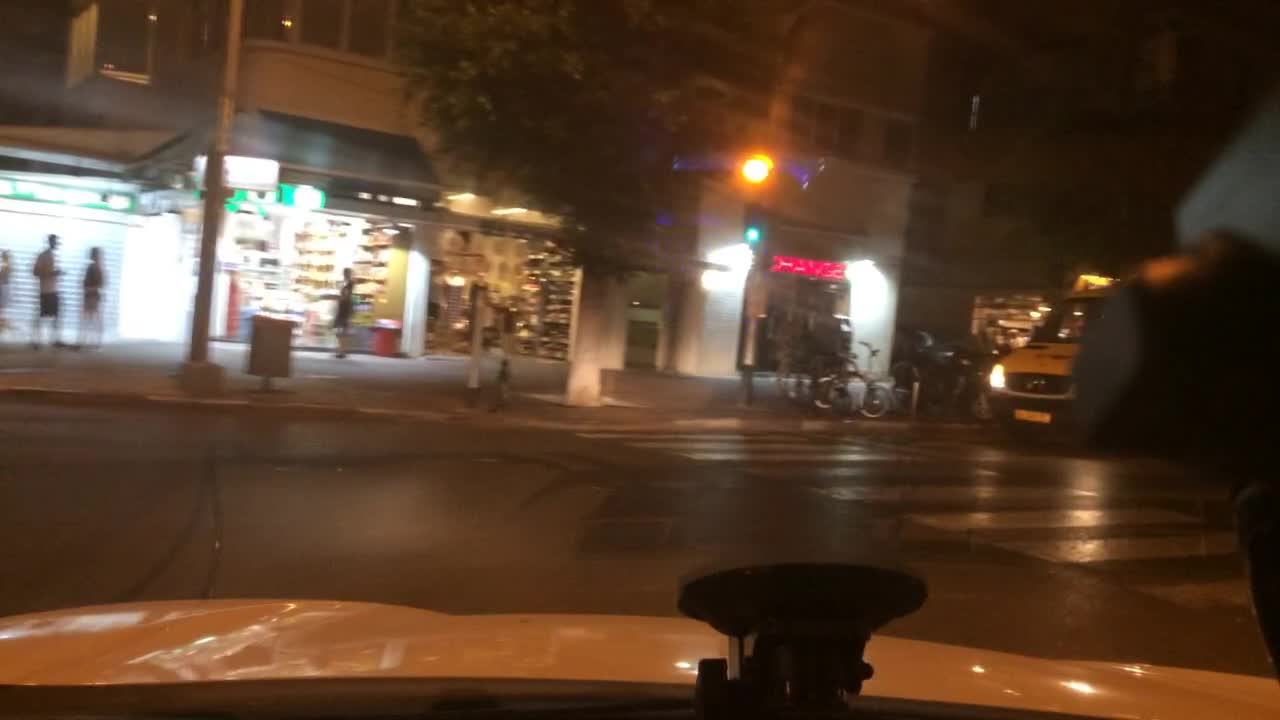bike: (808, 341, 889, 417), (778, 327, 853, 399)
car: (987, 289, 1119, 446)
motor: (887, 329, 996, 417)
person: (29, 233, 69, 348), (324, 266, 355, 356), (77, 244, 104, 347), (0, 248, 17, 351), (760, 302, 779, 368), (418, 298, 439, 351), (478, 301, 495, 356), (451, 308, 471, 353), (493, 357, 511, 405), (499, 305, 516, 354), (979, 319, 999, 356), (1002, 329, 1020, 350)
traffic light: (745, 226, 760, 245)
traffic sign: (245, 314, 294, 377)
